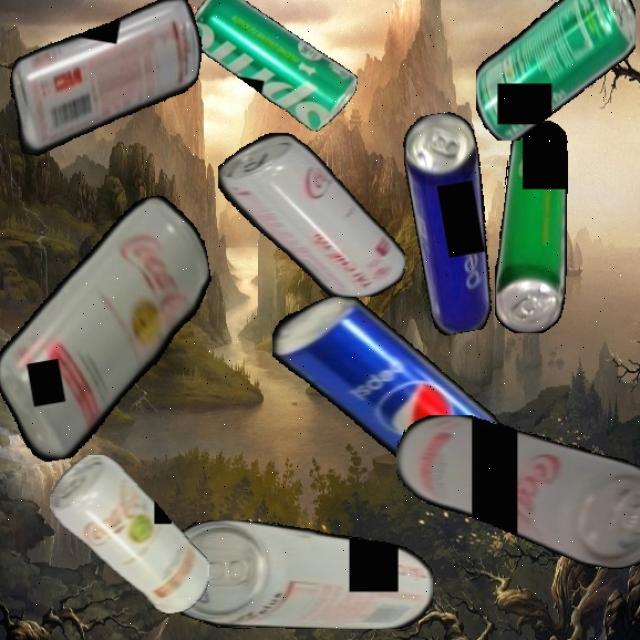debris: (0, 190, 237, 468), (271, 297, 503, 477), (0, 0, 210, 180), (395, 415, 640, 569), (217, 133, 405, 297), (163, 519, 433, 629), (177, 0, 369, 136), (49, 455, 209, 614), (398, 108, 508, 336), (475, 0, 636, 141), (494, 120, 569, 333)
